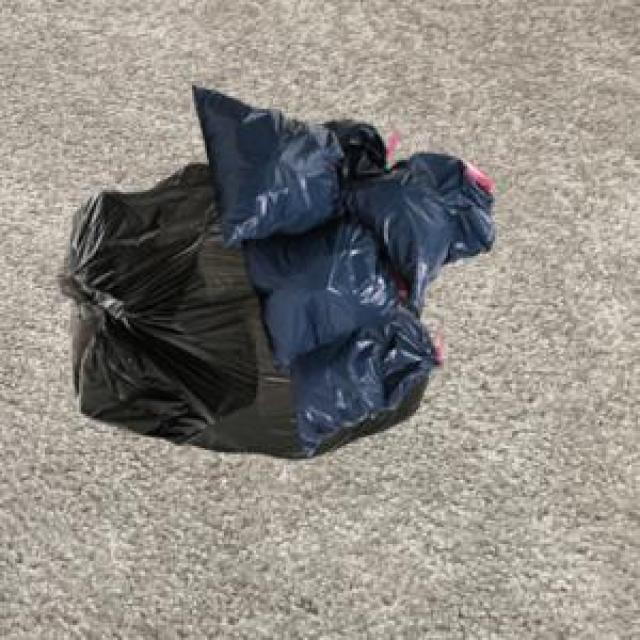waste: (61, 86, 491, 457)
